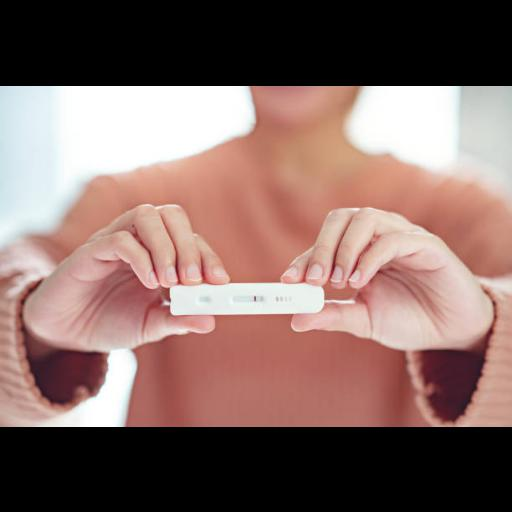Neg: (172, 284, 322, 312)
